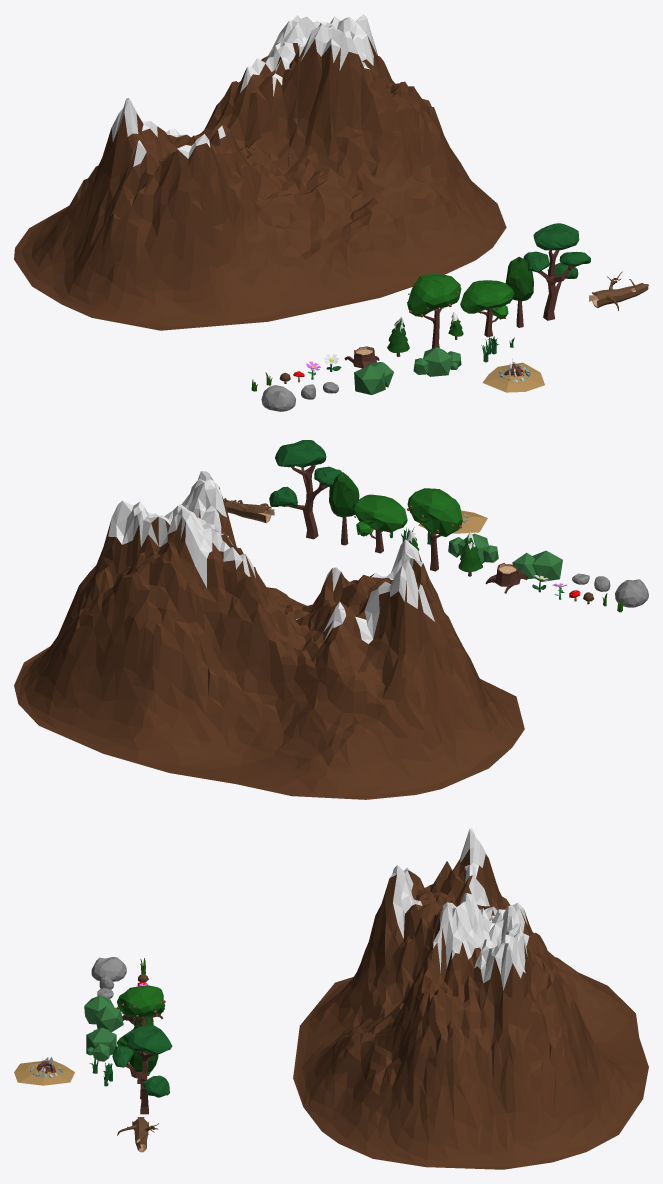
Rendered from Lowpoly Nature.fbx.
3 renders of one model, top to bottom at view 1: azimuth 30°, elevation 25°; view 2: azimuth 150°, elevation 25°; view 3: azimuth 270°, elevation 25°, orthographic. The views are drawn at different scales.
Parts seen in each view (by area): view 1: Berge, Junglebaum, Apfelbaum, Kirschbaum, Lagerfeuer, langer Baum, Busch groß, Busch klein, Baumstamm, Stein groß; view 2: Berge, Junglebaum, Apfelbaum, Kirschbaum, langer Baum, Busch klein, Stein groß, Busch groß, Baumstamm, Baumstamm abgeholzt, Weihnachtsbaum; view 3: Berge, Junglebaum, Apfelbaum, Lagerfeuer, Busch klein, Busch groß, Stein groß, Baumstamm.
Boxes of the visible parts, bbox=[...] form: Berge: bbox=[14, 14, 506, 330]; Junglebaum: bbox=[523, 223, 590, 320]; Apfelbaum: bbox=[407, 274, 461, 348]; Kirschbaum: bbox=[460, 280, 513, 337]; Lagerfeuer: bbox=[482, 358, 544, 392]; langer Baum: bbox=[505, 257, 533, 327]; Busch groß: bbox=[413, 347, 461, 376]; Busch klein: bbox=[354, 362, 393, 394]; Baumstamm: bbox=[589, 271, 648, 310]; Stein groß: bbox=[261, 385, 295, 411]; Berge: bbox=[14, 471, 524, 799]; Junglebaum: bbox=[269, 440, 342, 539]; Apfelbaum: bbox=[407, 488, 462, 571]; Kirschbaum: bbox=[352, 494, 407, 553]; langer Baum: bbox=[329, 472, 359, 545]; Busch klein: bbox=[512, 550, 562, 581]; Stein groß: bbox=[615, 579, 648, 607]; Busch groß: bbox=[448, 533, 498, 563]; Baumstamm: bbox=[223, 498, 274, 523]; Baumstamm abgeholzt: bbox=[485, 563, 528, 593]; Weihnachtsbaum: bbox=[458, 531, 482, 576]; Berge: bbox=[293, 828, 648, 1169]; Junglebaum: bbox=[112, 1024, 172, 1114]; Apfelbaum: bbox=[116, 985, 165, 1026]; Lagerfeuer: bbox=[14, 1057, 74, 1085]; Busch klein: bbox=[84, 995, 123, 1032]; Busch groß: bbox=[86, 1027, 116, 1061]; Stein groß: bbox=[91, 957, 126, 981]; Baumstamm: bbox=[117, 1117, 158, 1152].
Bounding box in the file's own units: 1140 × 499 × 1437.
